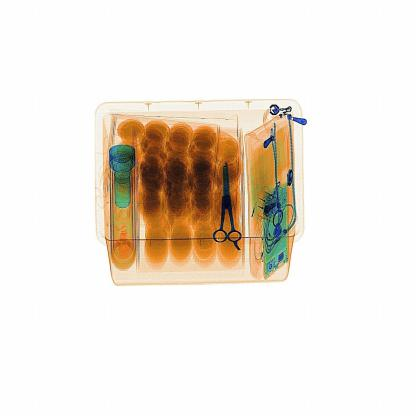gun: (213, 154, 255, 265)
